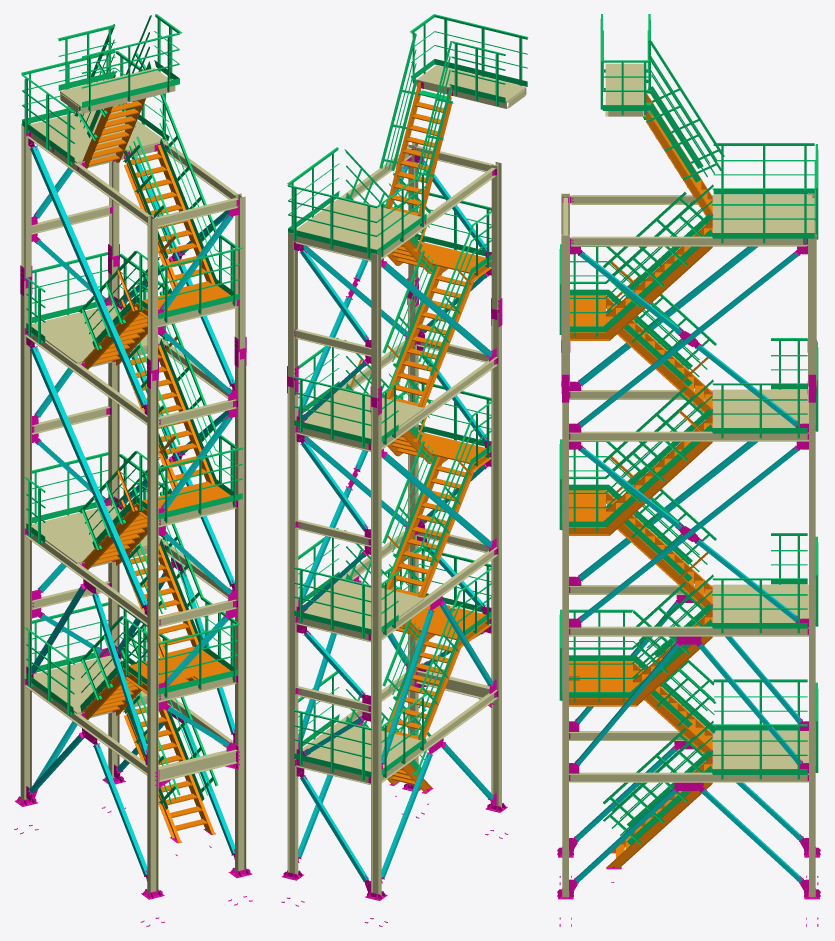
Rendered from building_staircase.glb.
The picture shows the model from 3 angles, left to right: view 1: azimuth 30°, elevation 25°; view 2: azimuth 150°, elevation 25°; view 3: azimuth 270°, elevation 25°; orthographic projection. The views are drawn at different scales.
Parts seen in each view (by area): view 1: 2447DD, 244825, 2447DC, 2447DB, 244809, 244808, 244807, 244FF6, 244FF5, 244806, 2447E0, 24480A (+52 smaller); view 2: 2447DB, 2447DC, 2447DD, 244809, 244807, 244808, 244806, 244825, 2447DF, 2447E0, 24480A, 2447DE (+39 smaller); view 3: 244809, 2447DB, 244825, 244807, 244808, 244806, 2447E2, 2447E3, 2447E1, 2447E4, 244823, 244822 (+36 smaller).
Part boxes in pixels (x1,y1,x2,y2): 2447DD: (147, 373, 158, 894); 244825: (235, 352, 246, 872); 2447DC: (20, 281, 31, 801); 2447DB: (108, 259, 119, 777); 244809: (29, 105, 164, 163); 244808: (31, 304, 164, 363); 244807: (31, 504, 164, 563); 244FF6: (30, 146, 147, 406); 244FF5: (30, 347, 147, 607); 244806: (33, 655, 147, 713); 2447E0: (147, 215, 157, 373); 24480A: (60, 68, 170, 107); 2447DB: (287, 380, 298, 875); 2447DC: (371, 401, 381, 895); 2447DD: (491, 313, 501, 807); 244809: (297, 197, 421, 249); 244807: (304, 578, 424, 628); 244808: (304, 387, 424, 438); 244806: (302, 721, 421, 771); 244825: (408, 295, 418, 785); 2447DF: (371, 250, 381, 400); 2447E0: (491, 162, 501, 312); 24480A: (416, 65, 526, 102); 2447DE: (288, 232, 297, 380); 244809: (713, 194, 812, 232); 2447DB: (809, 402, 815, 896); 244825: (562, 402, 568, 896); 244807: (713, 584, 808, 622); 244808: (713, 389, 808, 427); 244806: (713, 731, 808, 768); 2447E2: (569, 431, 808, 441); 2447E3: (569, 626, 808, 636); 2447E1: (571, 236, 806, 246); 2447E4: (569, 772, 808, 782); 244823: (579, 252, 798, 426); 244822: (579, 447, 798, 621).
Bounding box in the file's own units: 3.75 × 20.76 × 5.87.
